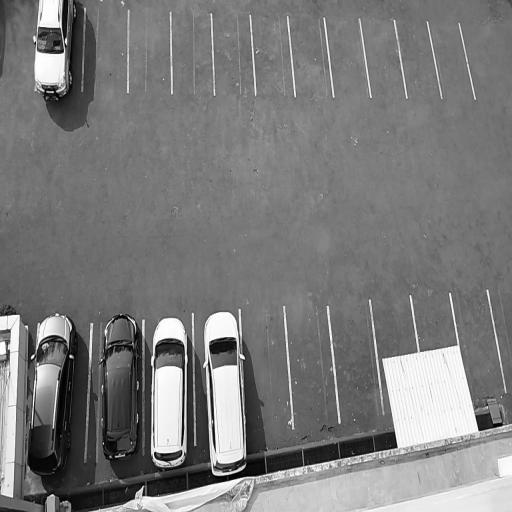Car: (25, 298, 83, 496), (200, 305, 252, 483), (97, 309, 143, 464), (149, 306, 189, 471), (32, 0, 79, 105)
Space Available: (240, 307, 294, 436), (286, 304, 339, 430), (330, 300, 384, 422), (451, 289, 506, 392), (82, 7, 129, 90), (288, 16, 335, 97), (360, 17, 407, 97), (250, 13, 295, 96), (171, 12, 216, 95), (395, 19, 442, 98), (325, 17, 372, 96), (128, 7, 171, 93), (428, 20, 475, 98), (212, 16, 255, 97), (371, 295, 418, 360), (1, 8, 37, 87), (411, 294, 458, 352)
